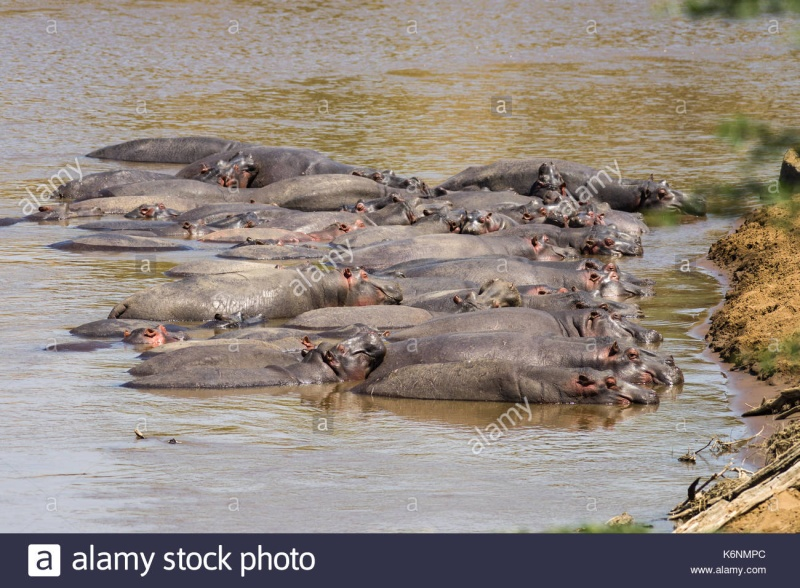hipopotamo: (355, 359, 664, 408), (401, 344, 681, 396), (161, 263, 407, 322), (217, 331, 387, 406)
